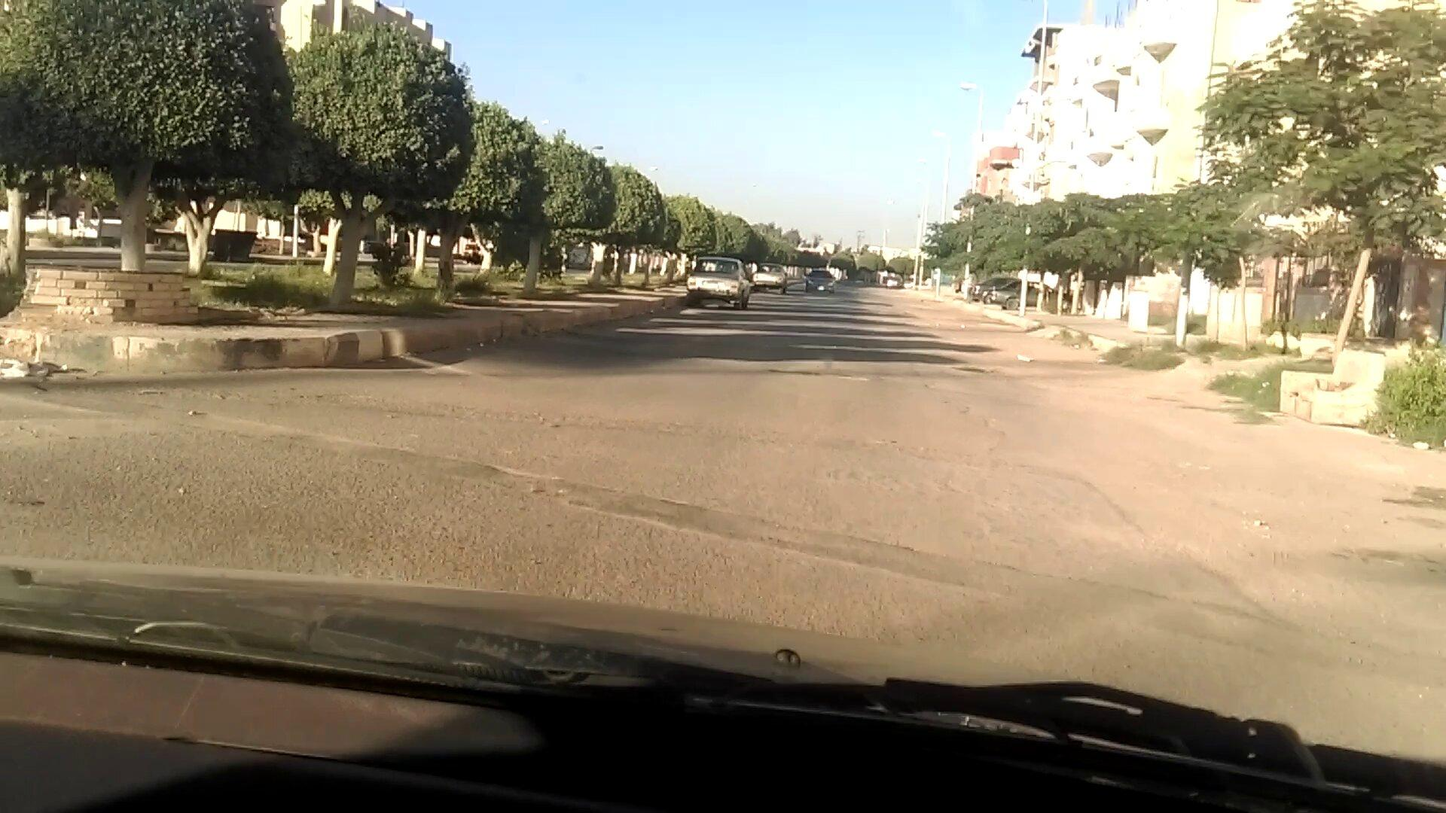Bump: (20, 376, 1445, 698)
